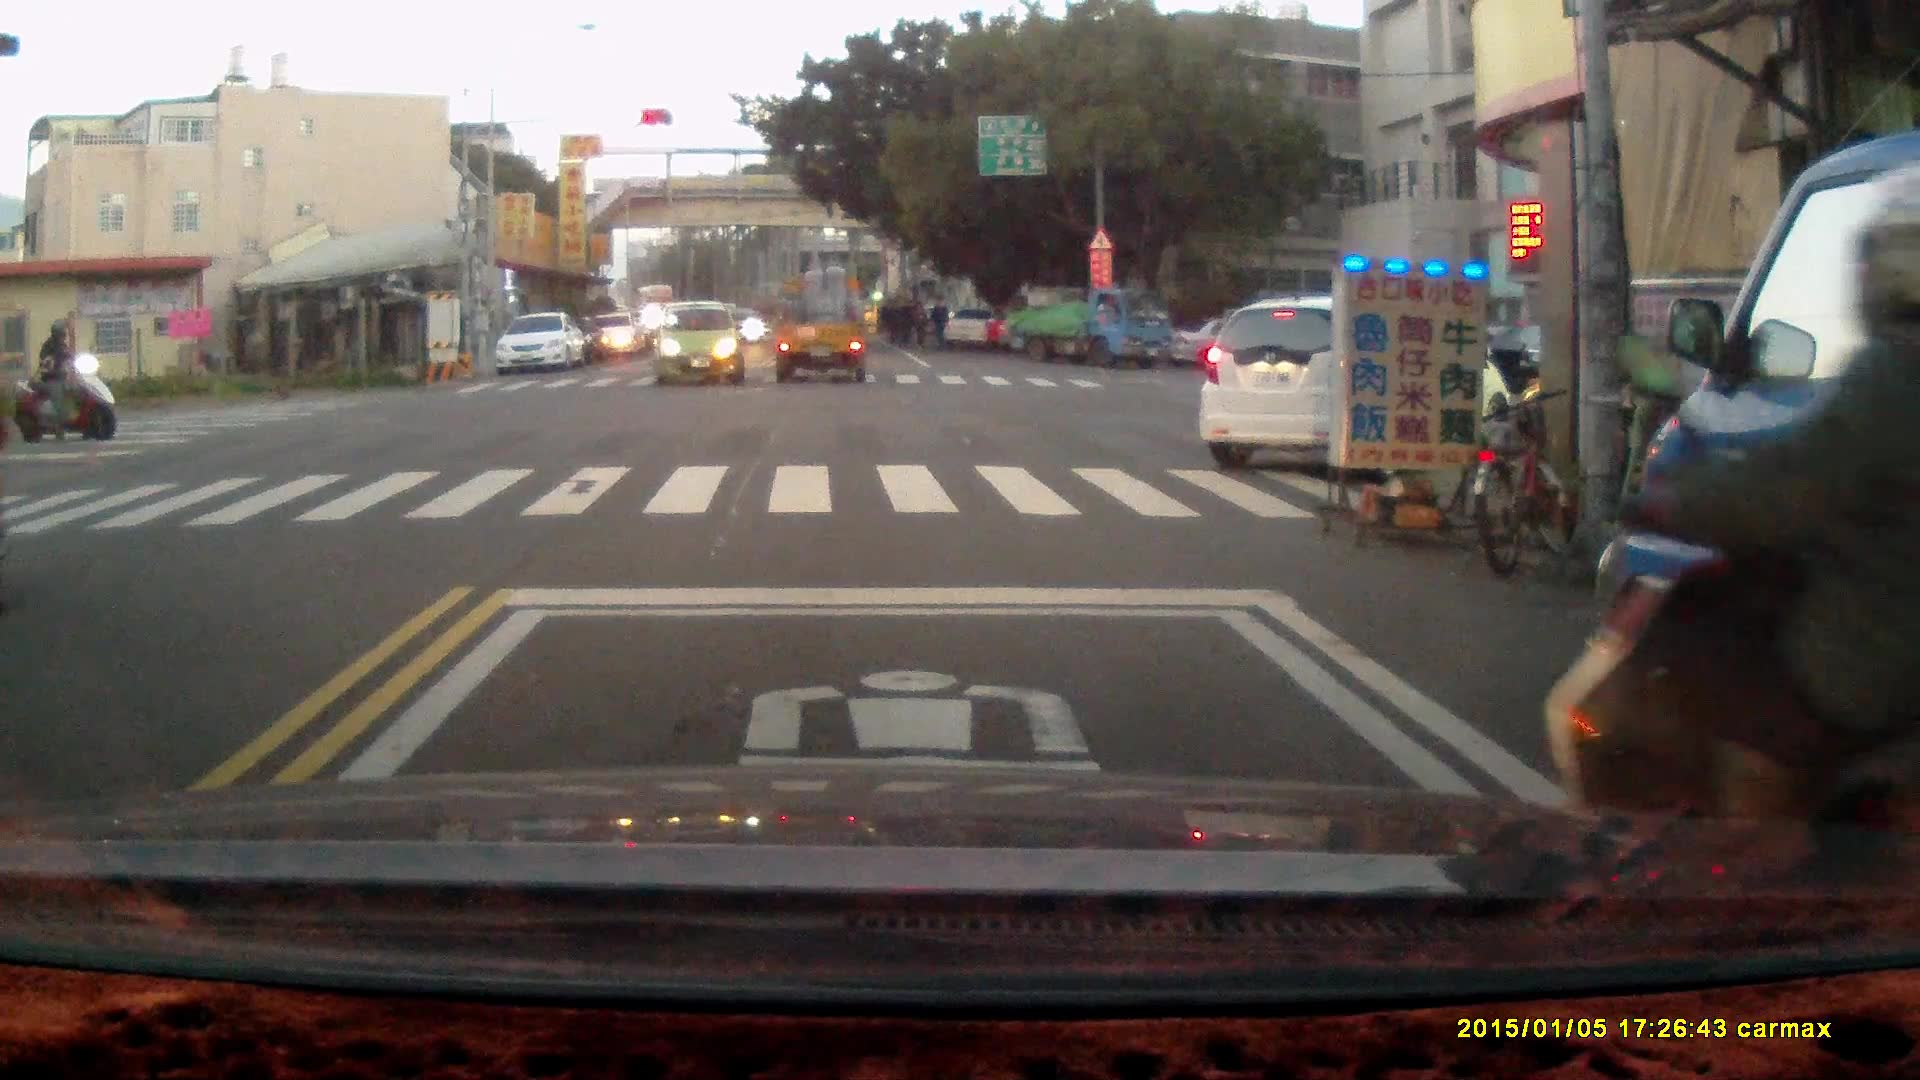rider: (1543, 161, 1920, 882), (11, 316, 118, 441)
vehicle: (1598, 132, 1920, 913), (1201, 293, 1514, 467), (1002, 284, 1174, 367), (774, 253, 873, 385), (659, 297, 752, 388), (500, 313, 587, 378), (592, 311, 642, 360)
